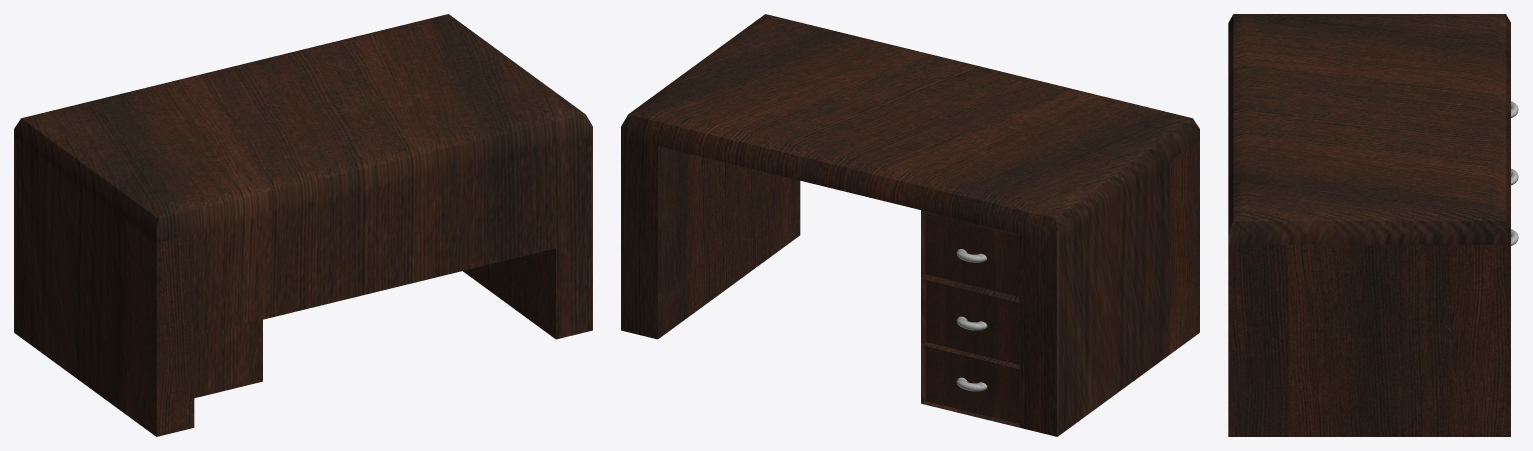
Rendered from Desk.fbx.
3 views of the same model, side by side, from view 1: azimuth 30°, elevation 25°; view 2: azimuth 150°, elevation 25°; view 3: azimuth 270°, elevation 25° (orthographic).
Visible parts, largest first — view 1: Desk; view 2: Desk; view 3: Desk.
Part boxes in pixels (left/top/right/bottom): Desk: left=14, top=14, right=592, bottom=436; Desk: left=621, top=14, right=1199, bottom=436; Desk: left=1228, top=14, right=1518, bottom=436.
Bounding box in the file's own units: 2.01 × 0.9691 × 1.17.
Materials: 3 (2 with a texture image).
